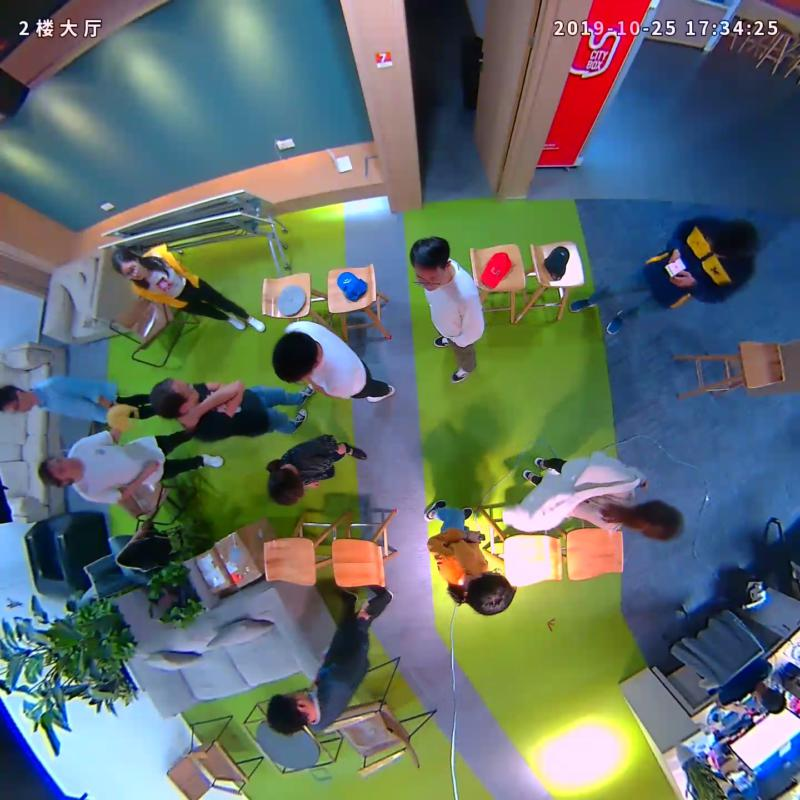head: (271, 330, 320, 383), (409, 236, 451, 293), (465, 570, 513, 616), (149, 377, 198, 419), (636, 500, 684, 541), (265, 691, 308, 736), (708, 220, 757, 259), (266, 466, 305, 506), (38, 456, 80, 487), (111, 248, 146, 281), (1, 384, 36, 414)
